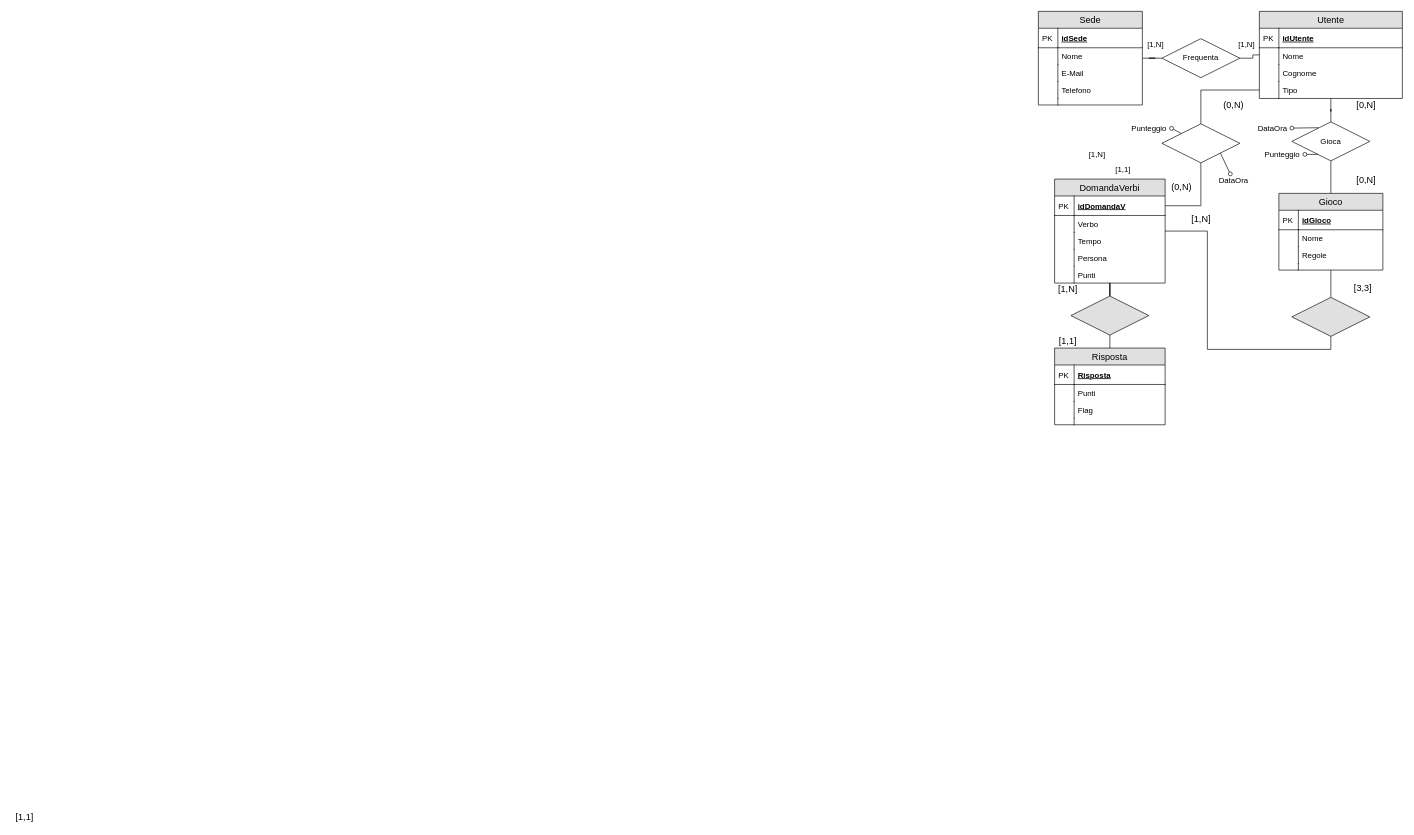
Some shapes in this 1414 by 835 pixel diagram are drawn without their labels. The centre of each missing label's shape, as x and y in pixels:
"Ha" goes at (1330,316).
"Possiede" goes at (1109,315).
"RispoUt" goes at (1200,143).
